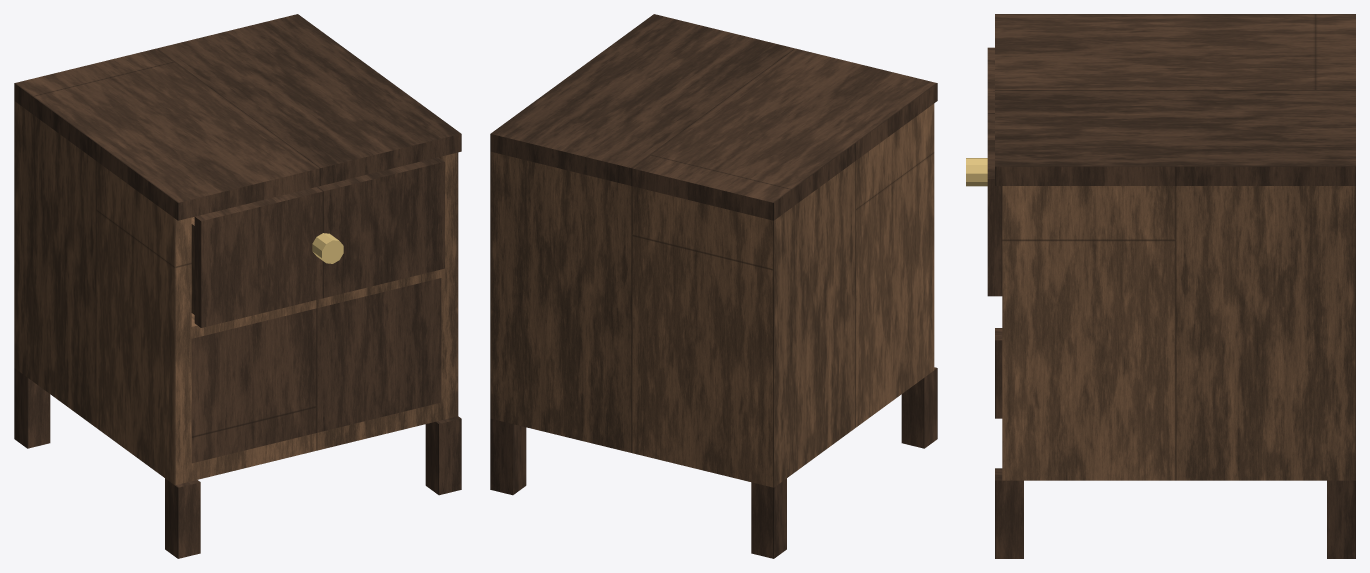
The model's file is INT_MesaNoche.fbx.
3 views of the same model, side by side, from view 1: azimuth 30°, elevation 25°; view 2: azimuth 150°, elevation 25°; view 3: azimuth 270°, elevation 25° (orthographic). The views are drawn at different scales.
Visible parts, largest first — view 1: INT_MesaNoche, Cajon; view 2: INT_MesaNoche; view 3: INT_MesaNoche, Cajon.
Boxes of the visible parts, <box> form: INT_MesaNoche: <box>14,14,461,558</box>; Cajon: <box>191,157,444,327</box>; INT_MesaNoche: <box>490,14,937,558</box>; INT_MesaNoche: <box>995,14,1355,558</box>; Cajon: <box>966,47,1002,296</box>.
Size of the model in its own units: 0.5 by 0.6 by 0.54.
